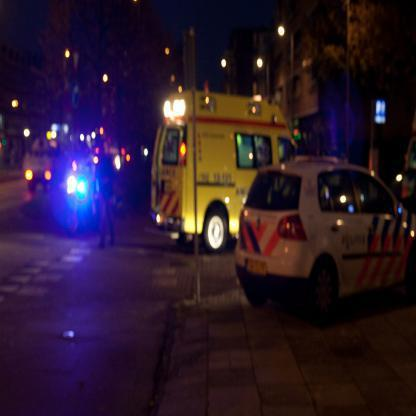Ambulance - v1 Ambulance last generate: (144, 90, 304, 250)
